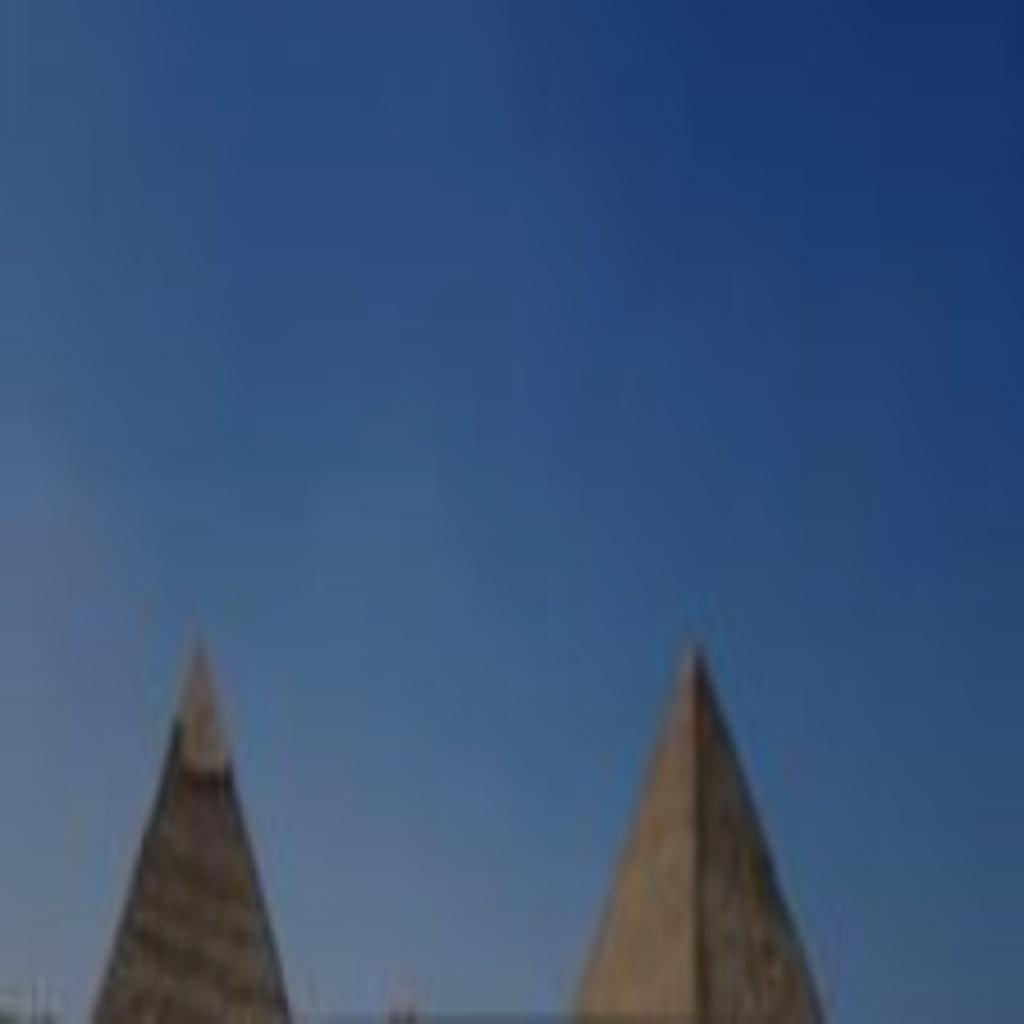Great Pyramids of Giza: (0, 602, 841, 1014)
